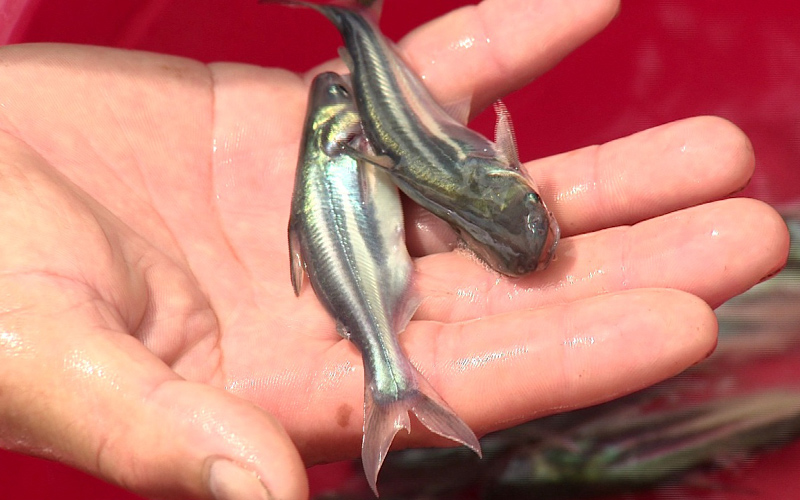fish: (293, 76, 382, 397), (397, 146, 559, 255)
